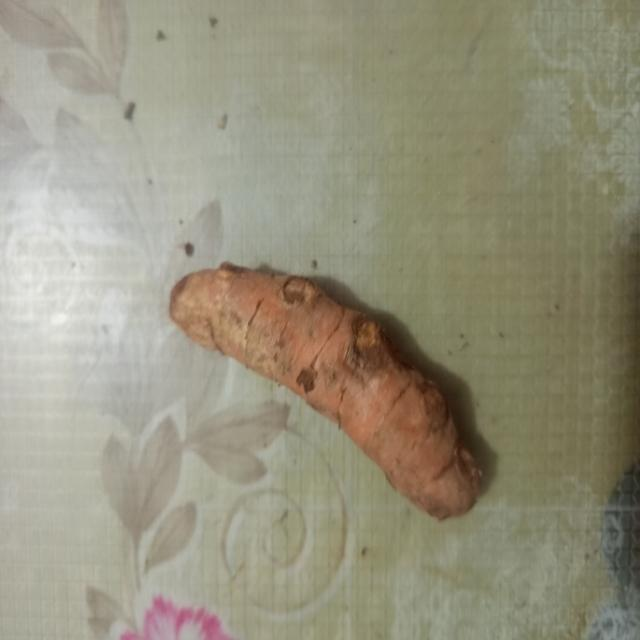ginger: (175, 262, 480, 514)
